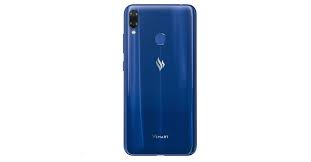vsmart: (119, 1, 201, 158)
